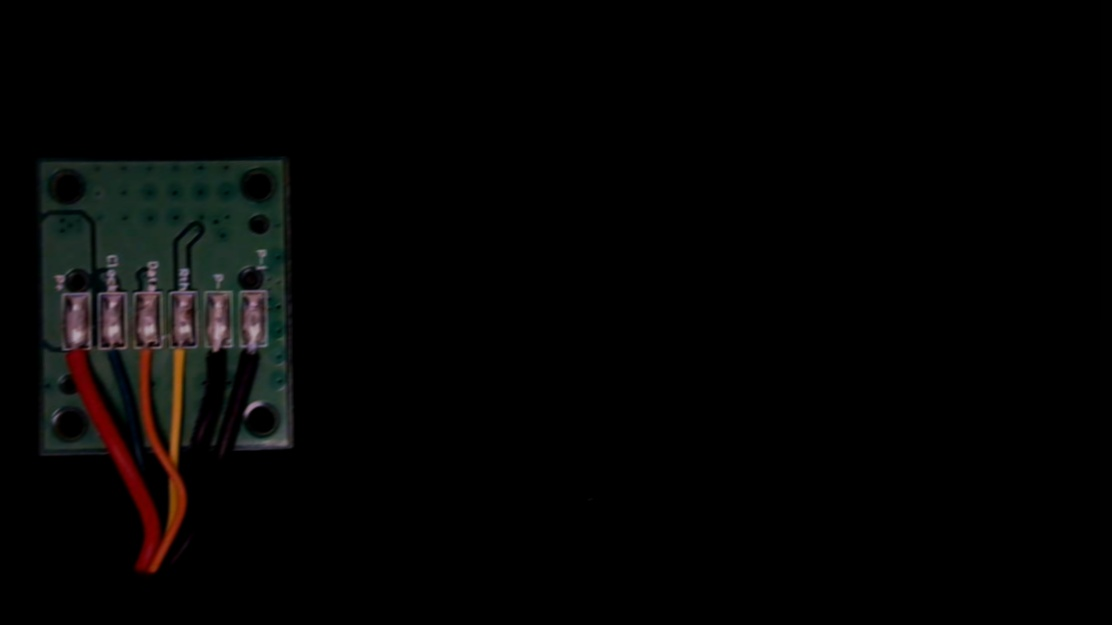Black: (204, 334, 231, 394)
Black1: (240, 334, 269, 393)
Green: (98, 333, 129, 395)
Orange: (135, 333, 164, 397)
Red: (61, 336, 93, 398)
Yellow: (167, 334, 198, 400)
